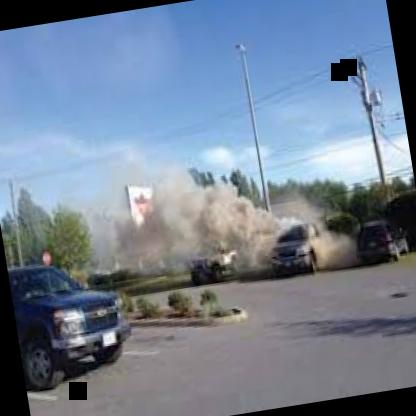fire: (179, 176, 278, 250)
